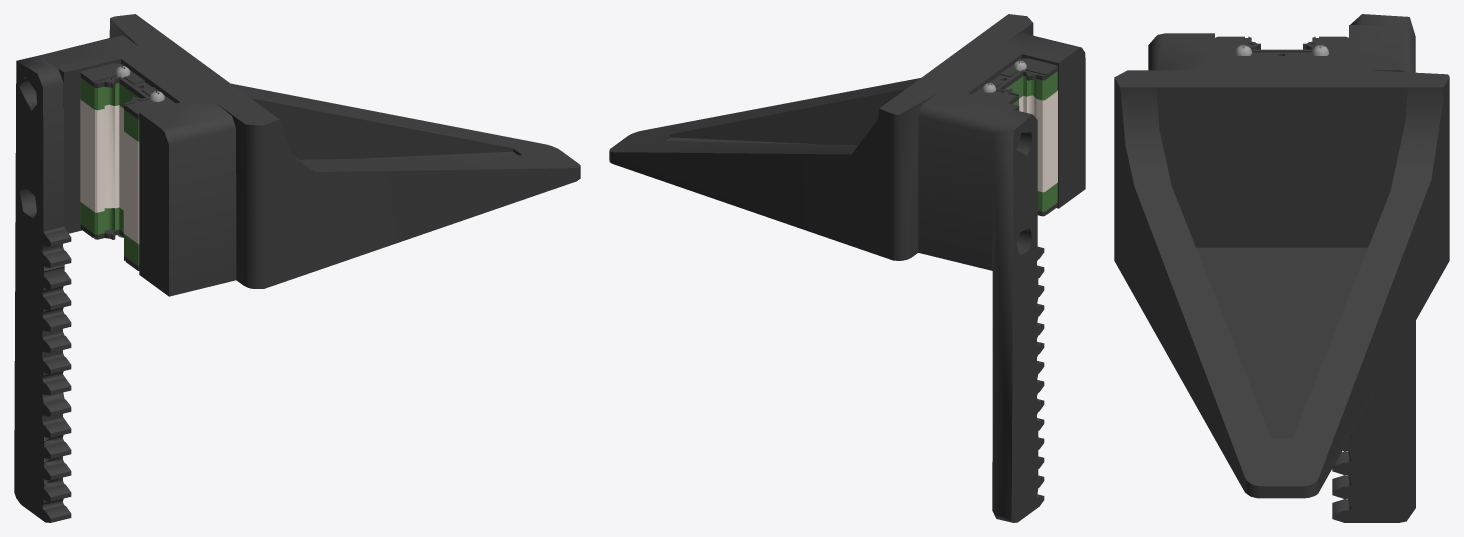
Rendered from finger_left.glb.
3 views of the same model, side by side, from view 1: azimuth 30°, elevation 25°; view 2: azimuth 150°, elevation 25°; view 3: azimuth 270°, elevation 25° (orthographic). The views are drawn at different scales.
Parts seen in each view (by area): view 1: Finger v0.2 v2.001, FingerAdapter v0.2 v4.001, Zahnstange v0.2 v003.001, Component9.001, Component4.001, Component004.001, Component5.001; view 2: Finger v0.2 v2.001, FingerAdapter v0.2 v4.001, Zahnstange v0.2 v003.001, Component9.001, Component4.001, Component004.001; view 3: Finger v0.2 v2.001, Zahnstange v0.2 v003.001, FingerAdapter v0.2 v4.001, Component4.001.
Part boxes in pixels (x1,y1,x2,y2): Finger v0.2 v2.001: [109, 14, 580, 288]; FingerAdapter v0.2 v4.001: [40, 35, 241, 296]; Zahnstange v0.2 v003.001: [14, 55, 71, 522]; Component9.001: [80, 99, 139, 244]; Component4.001: [80, 63, 175, 119]; Component004.001: [80, 76, 139, 141]; Component5.001: [80, 202, 139, 266]; Finger v0.2 v2.001: [609, 14, 1033, 260]; FingerAdapter v0.2 v4.001: [913, 33, 1085, 270]; Zahnstange v0.2 v003.001: [992, 110, 1044, 522]; Component9.001: [1019, 90, 1057, 192]; Component4.001: [973, 58, 1057, 103]; Component004.001: [1005, 69, 1057, 105]; Finger v0.2 v2.001: [1114, 70, 1449, 498]; Zahnstange v0.2 v003.001: [1332, 14, 1415, 522]; FingerAdapter v0.2 v4.001: [1148, 25, 1415, 81]; Component4.001: [1215, 36, 1348, 55].
Bounding box in the file's own units: 0.096 × 0.0827 × 0.05.
